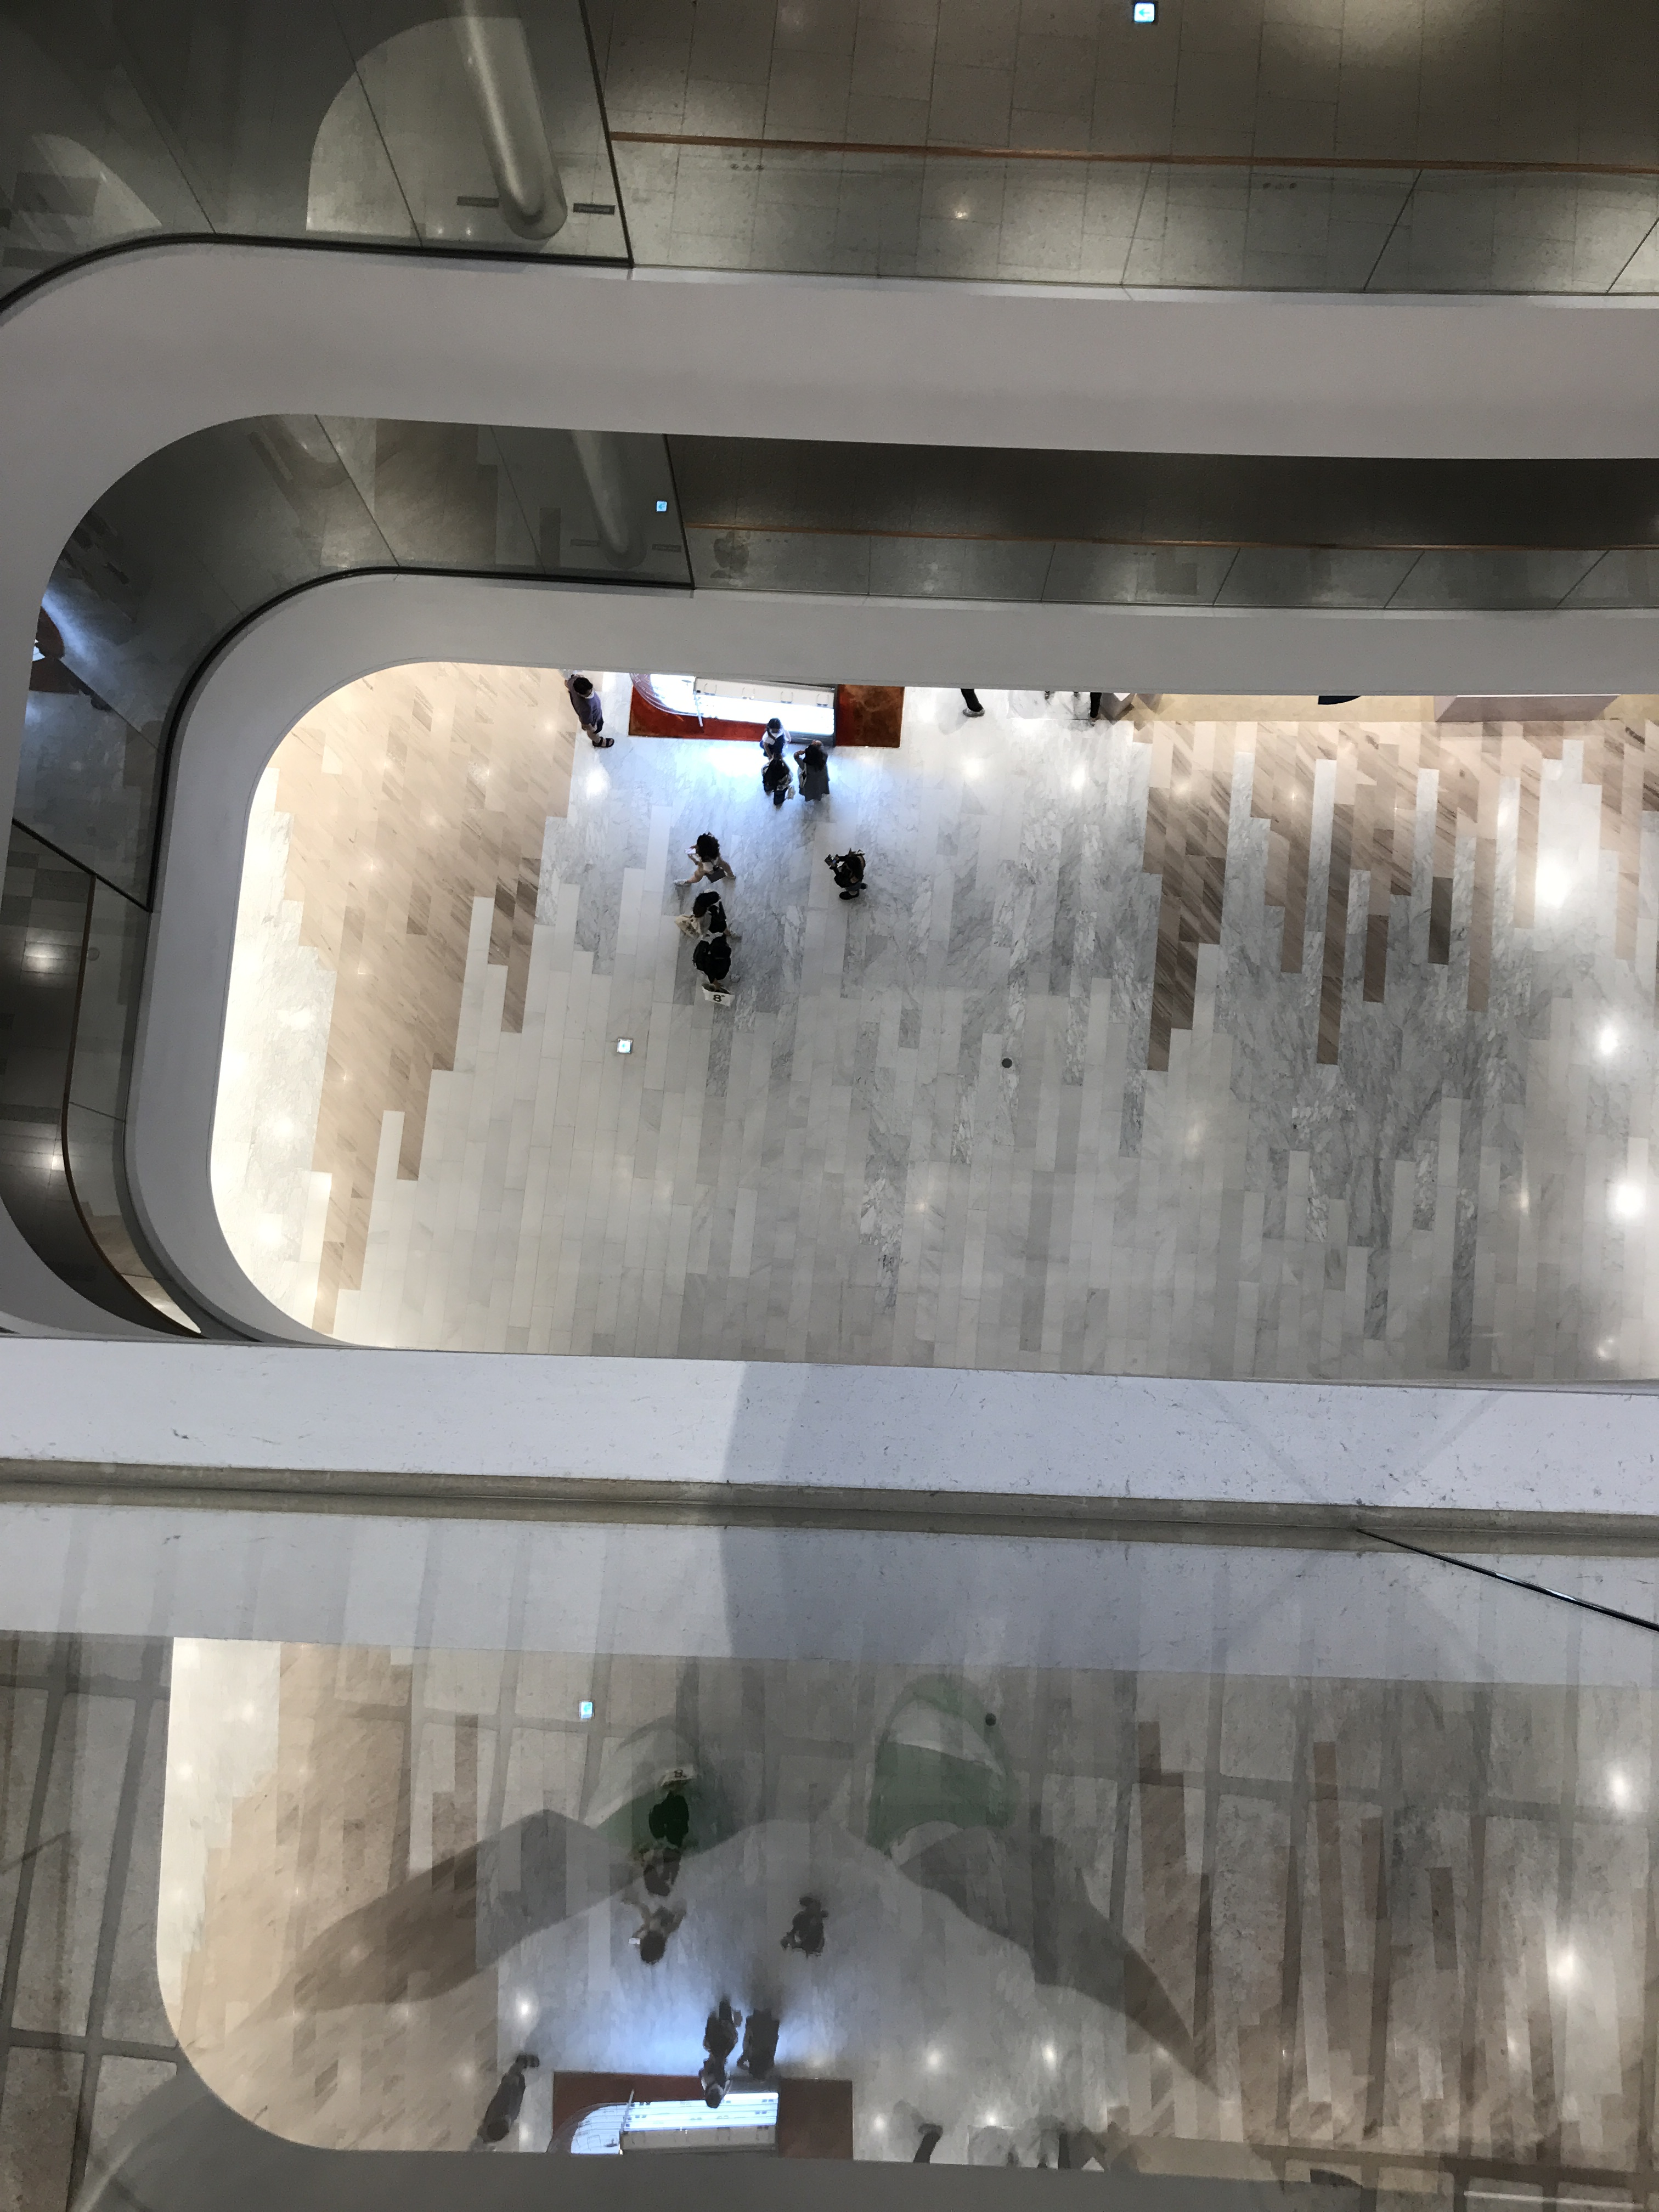person: (560, 673, 617, 750), (674, 831, 738, 891), (674, 889, 743, 942), (694, 928, 744, 996), (793, 739, 832, 804), (826, 847, 868, 901), (760, 755, 795, 810), (760, 718, 792, 762)
